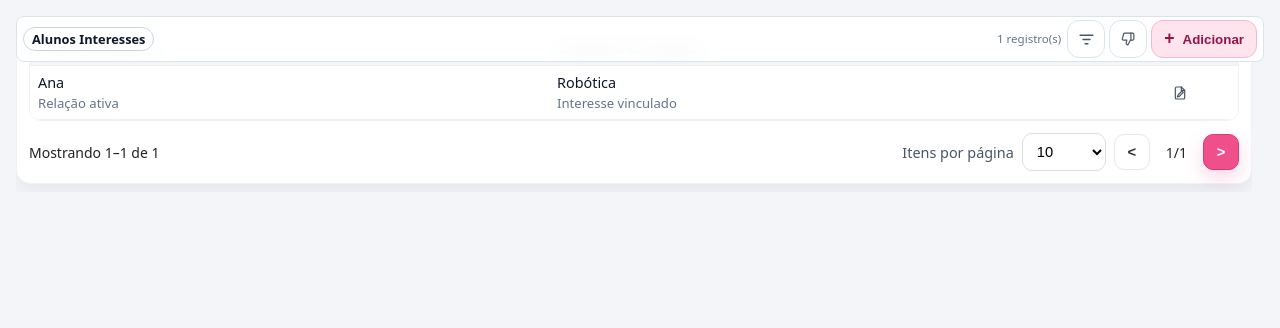
it: Segunda fatia das listagens › Alunos Interesses abre pelo ícone já em modo editável
The image size is (1280, 328).
Click the button named "Detalhes" at (1180, 92), box x1=1166 y1=78 x2=1194 y2=106
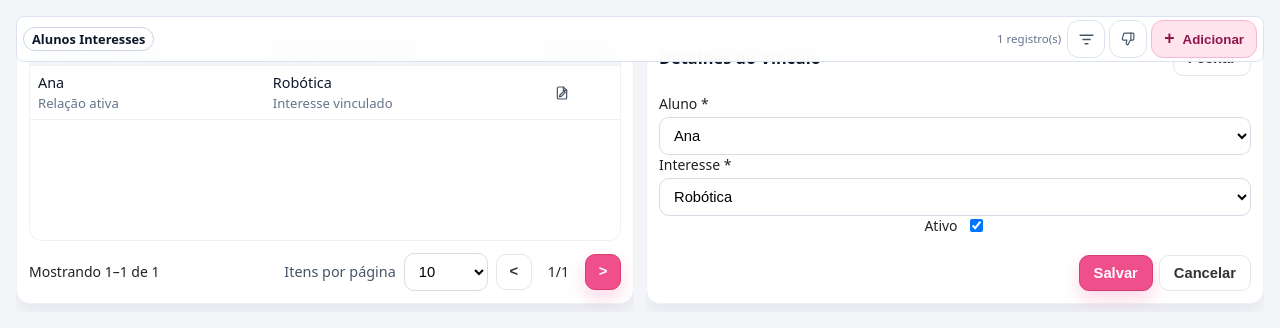
Now the heading "Detalhes do Vínculo" is shown, box x1=659 y1=47 x2=821 y2=69
Now the dropdown below "Aluno *" is enabled, box x1=659 y1=117 x2=1251 y2=155
